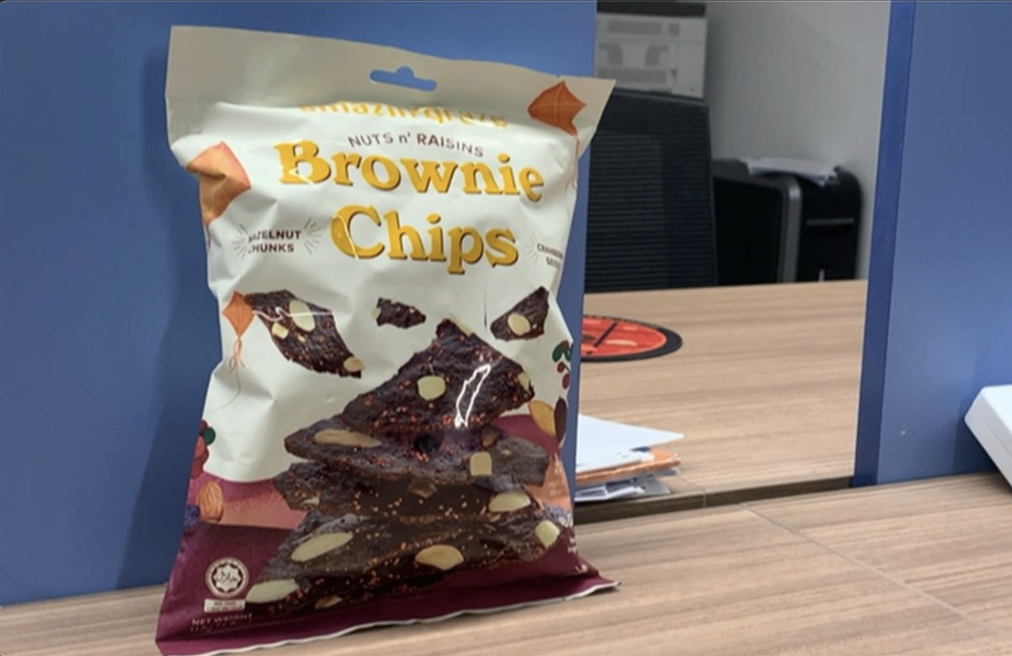crackers_100g-199g: (205, 130, 561, 637)
